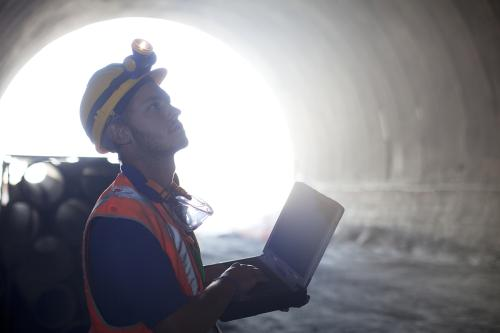hard-hat: (78, 38, 161, 151)
person: (78, 37, 311, 333)
vest: (80, 167, 223, 333)
